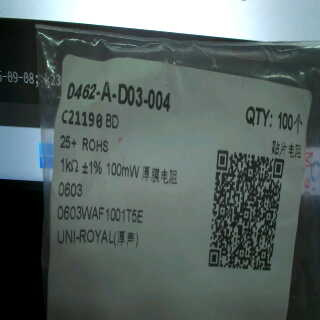1kR: (54, 155, 83, 177)
